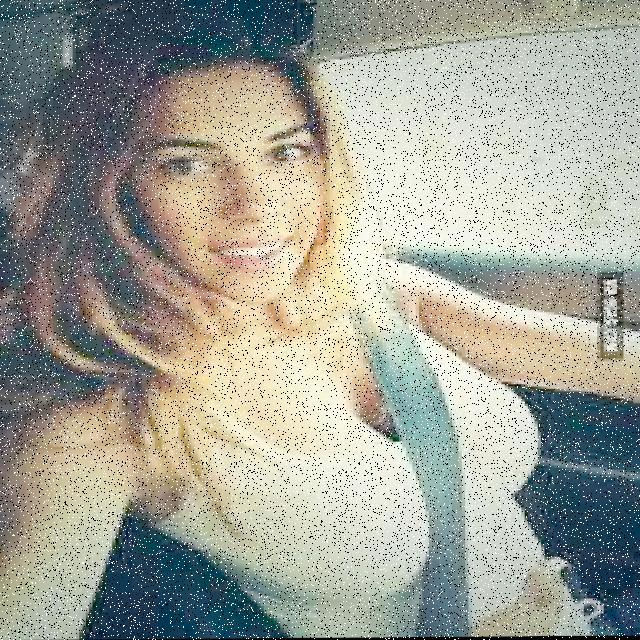seatbelt: (149, 250, 536, 637)
